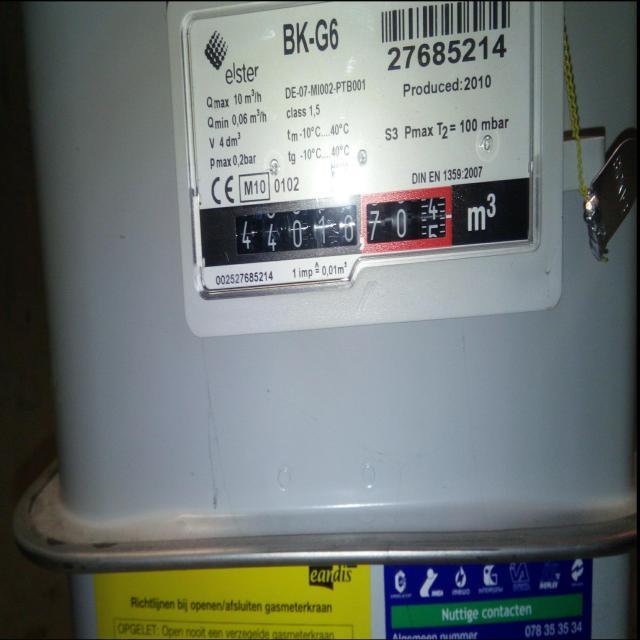gaz_meter: (184, 0, 540, 294)
indication: (233, 185, 452, 264)
